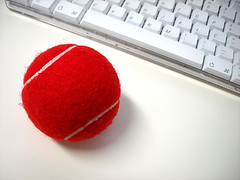tennis ball: (19, 43, 123, 145)
